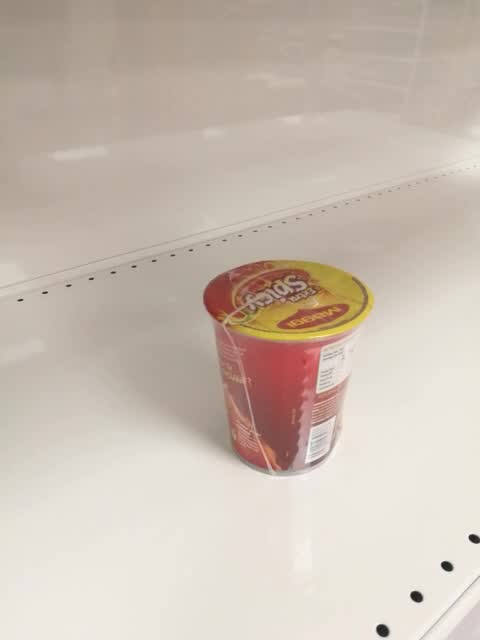maggi: (201, 258, 374, 477)
